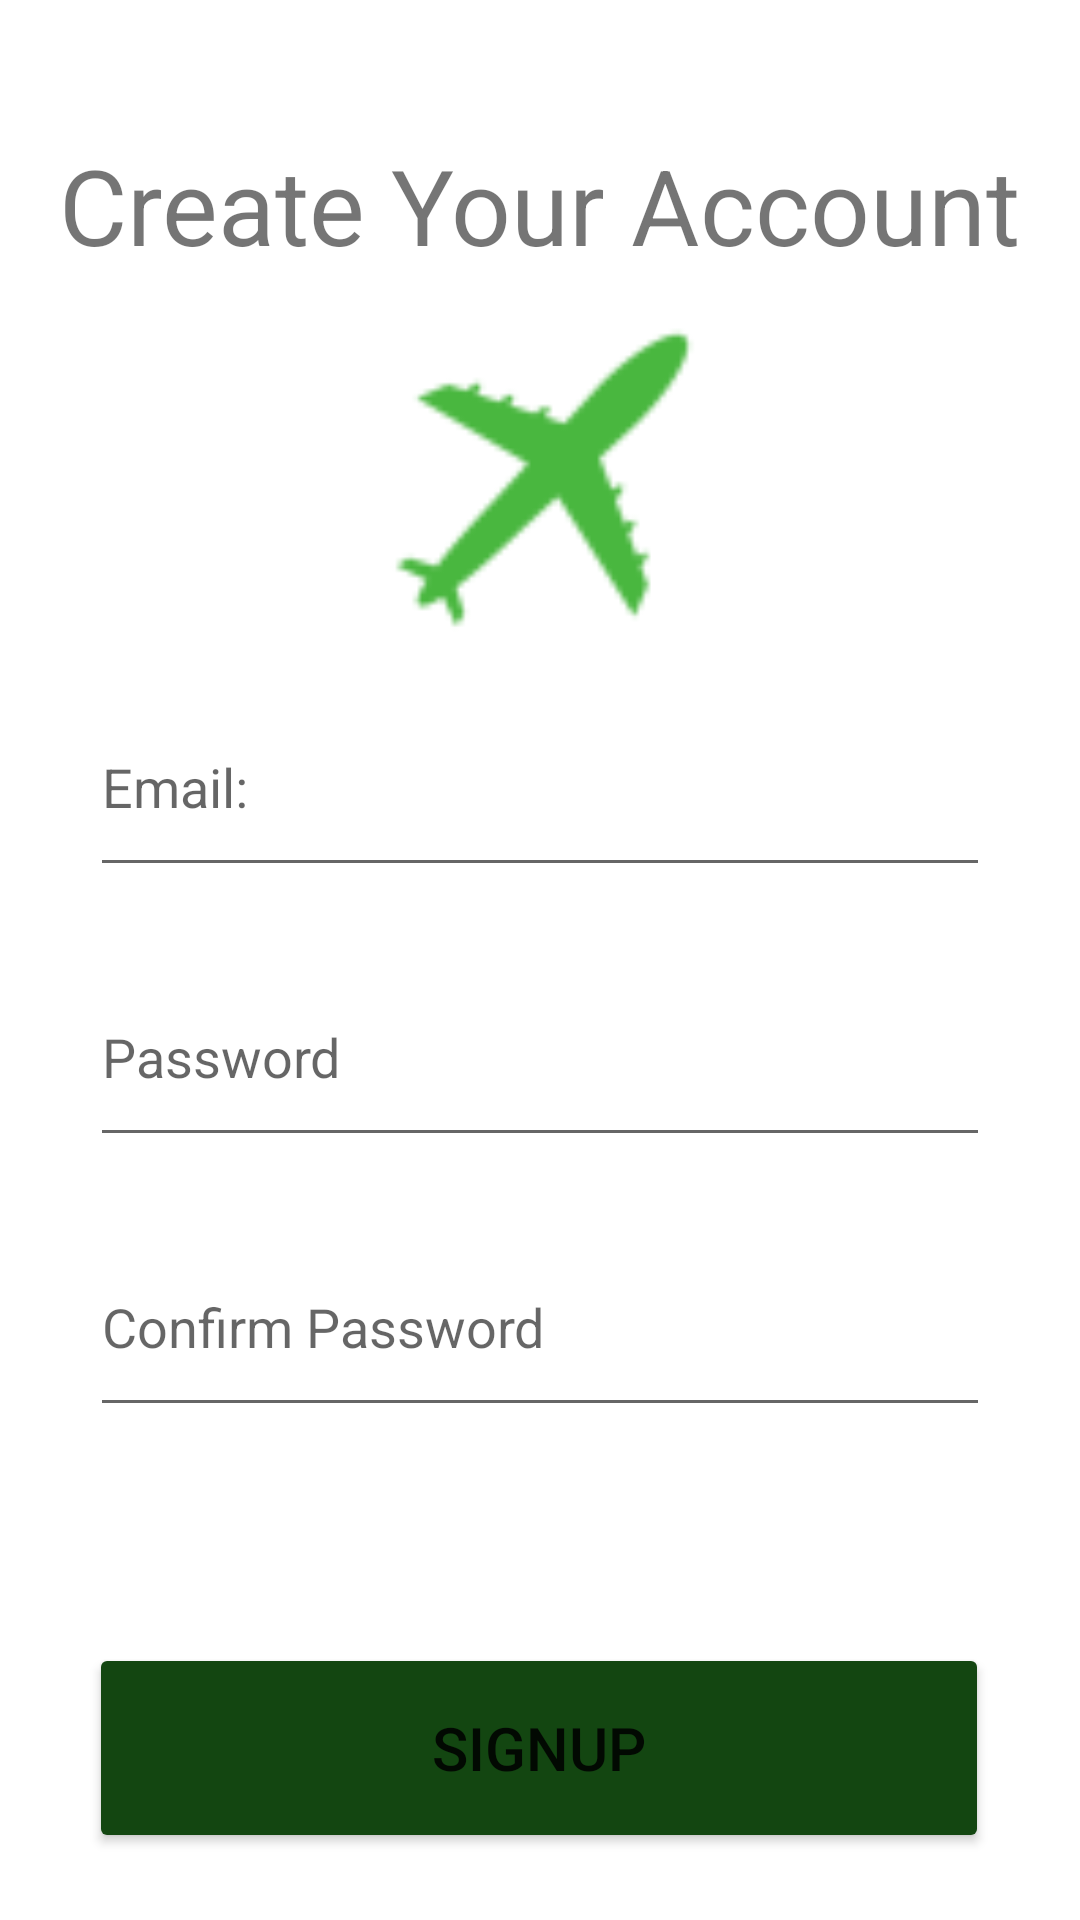

Named icons in this screenshot (1080px x 1920px) and their bounding boxes, detection(x1, y1, x2, y2):
besttravel: detection(396, 333, 690, 626)
